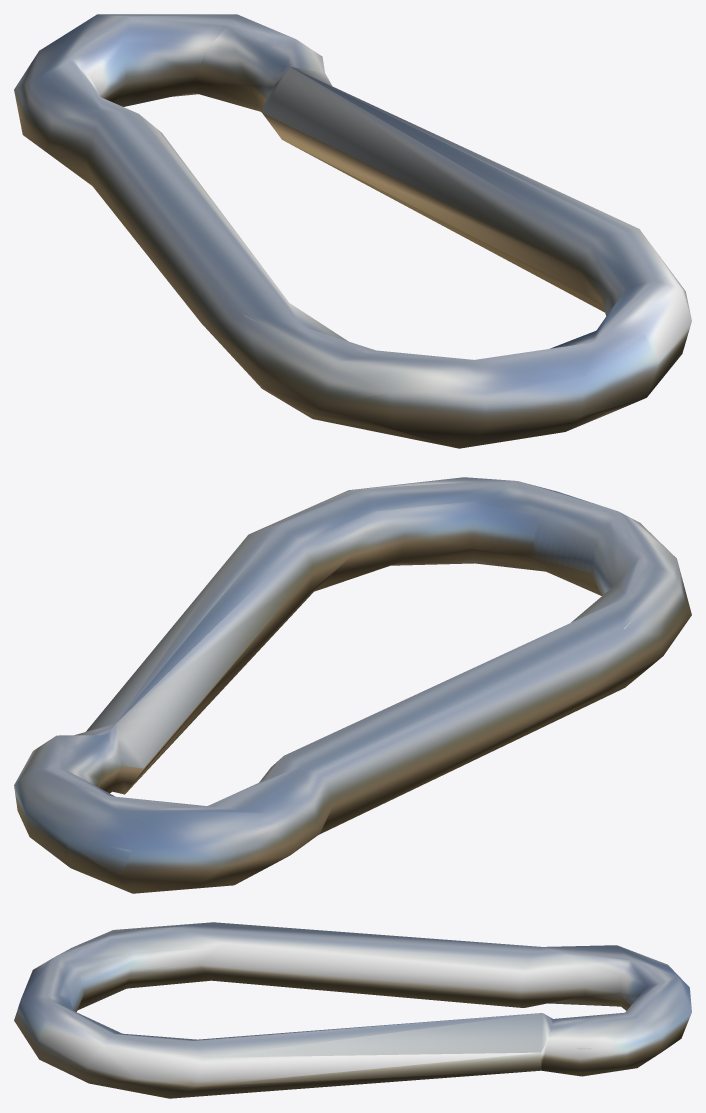
The model's file is WorldItem-AZCarabiner.fbx.
The picture shows the model from 3 angles, top to bottom: view 1: azimuth 30°, elevation 25°; view 2: azimuth 150°, elevation 25°; view 3: azimuth 270°, elevation 25°; orthographic projection. The views are drawn at different scales.
Visible parts, largest first — view 1: Cylinder; view 2: Cylinder; view 3: Cylinder.
Part boxes in pixels (x1,y1,x2,y2): Cylinder: [14, 14, 691, 448]; Cylinder: [14, 477, 691, 893]; Cylinder: [14, 922, 691, 1098].
Bounding box in the file's own units: 0.0707 × 0.0151 × 0.1438.
